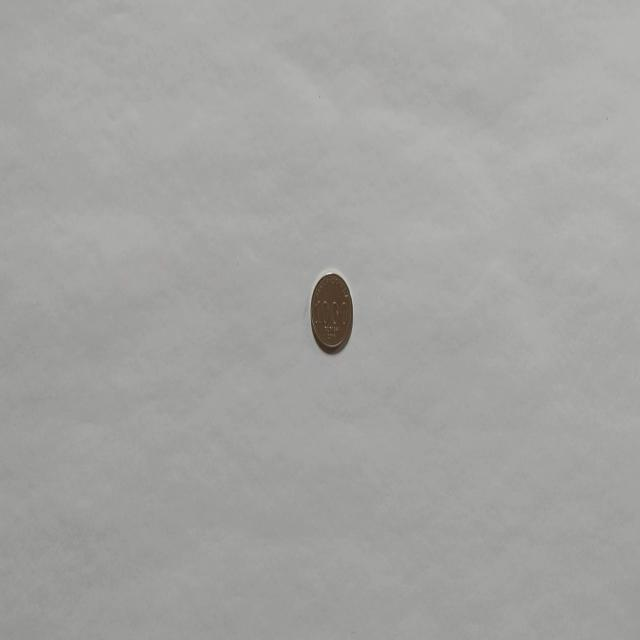seribu rupiah koin: (308, 268, 354, 354)
